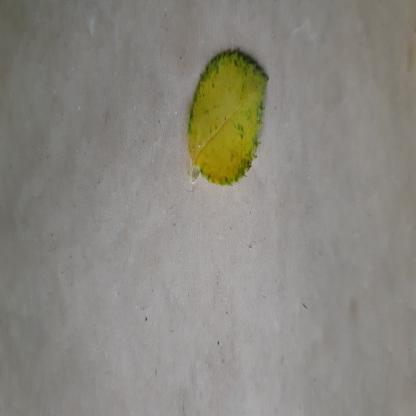black-spot: (186, 47, 270, 188)
